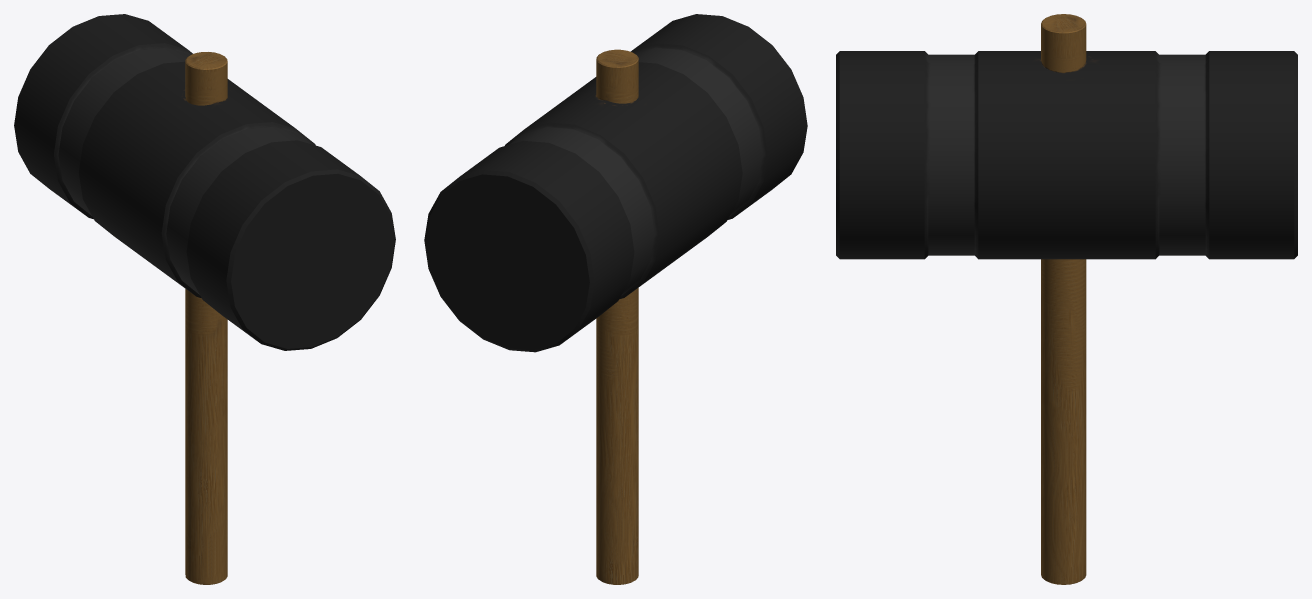
The model's file is Hammer_for_Unity.fbx.
3 renders of one model, left to right at view 1: azimuth 30°, elevation 25°; view 2: azimuth 150°, elevation 25°; view 3: azimuth 270°, elevation 25°, orthographic. The views are drawn at different scales.
Parts seen in each view (by area): view 1: hammer; view 2: hammer; view 3: hammer.
Boxes of the visible parts, x1,y1,x2,y2 form: hammer: (14, 14, 395, 584); hammer: (424, 14, 807, 584); hammer: (836, 14, 1297, 584).
Bounding box in the file's own units: 7.6 × 22.1 × 16.73.
